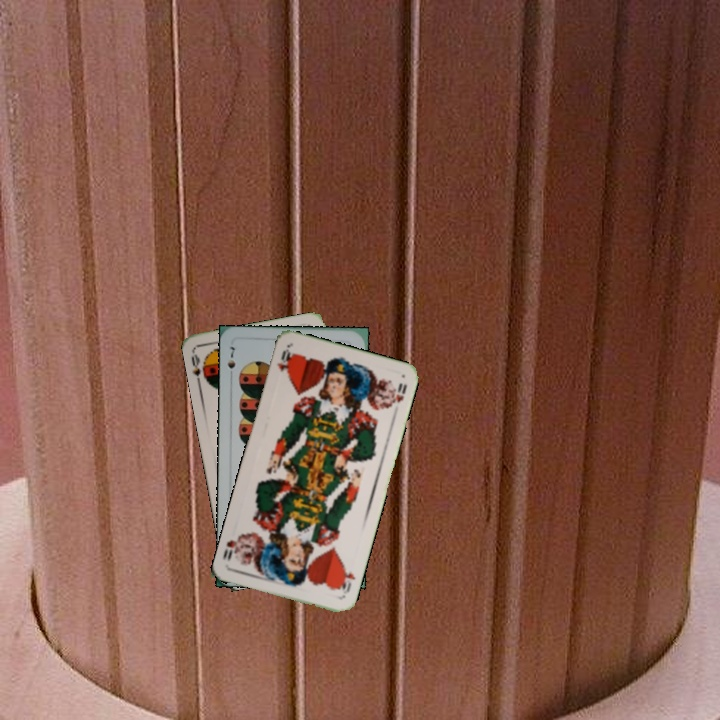HO: (335, 560, 358, 598), (273, 344, 295, 376)
S7: (224, 343, 238, 381)
SO: (187, 348, 211, 389)
